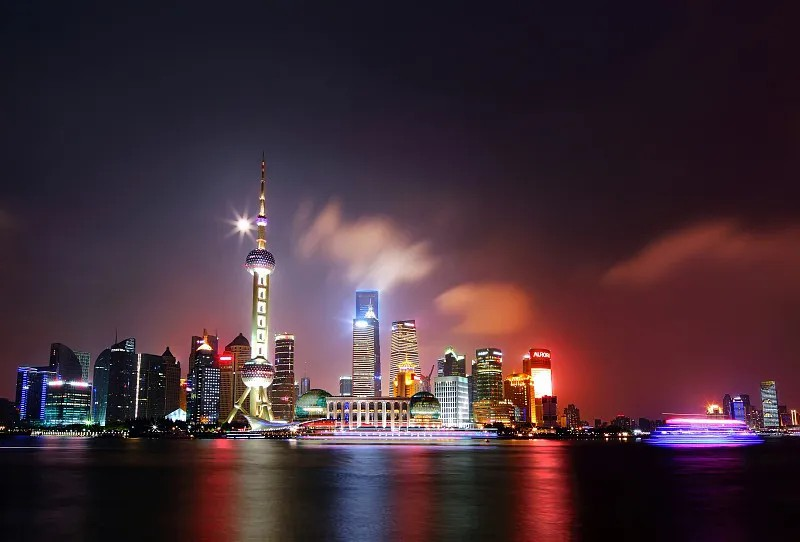Oriental: (225, 150, 275, 421)
